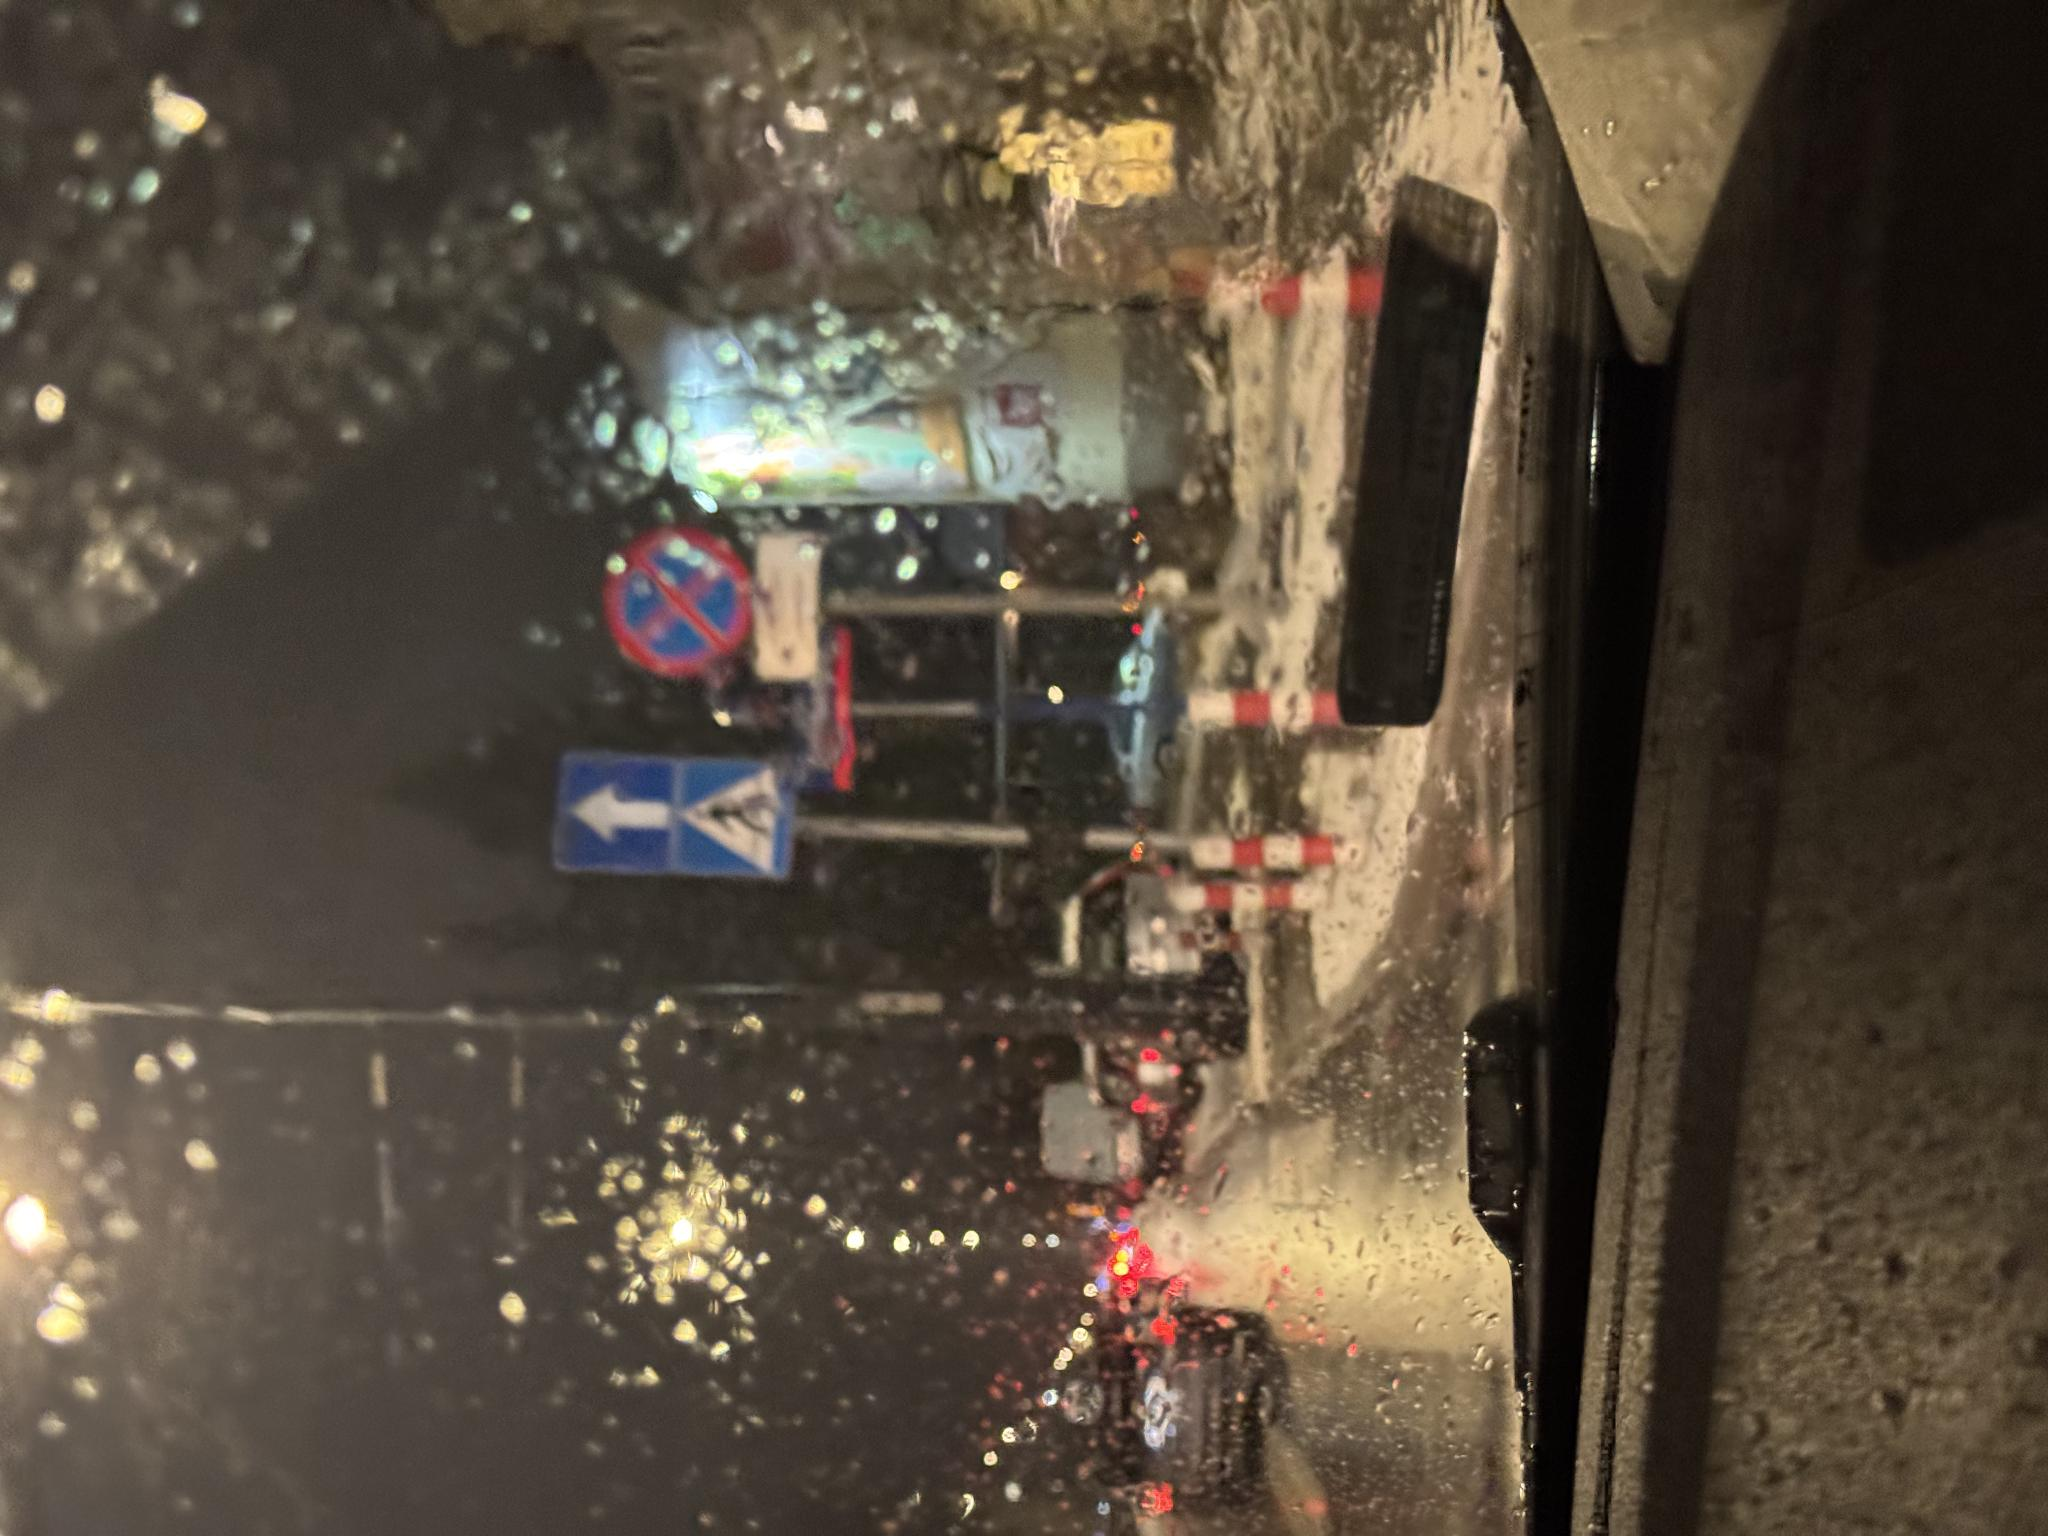information: (659, 552, 785, 674), (658, 676, 784, 796)
prohibitory: (858, 594, 1010, 752)
